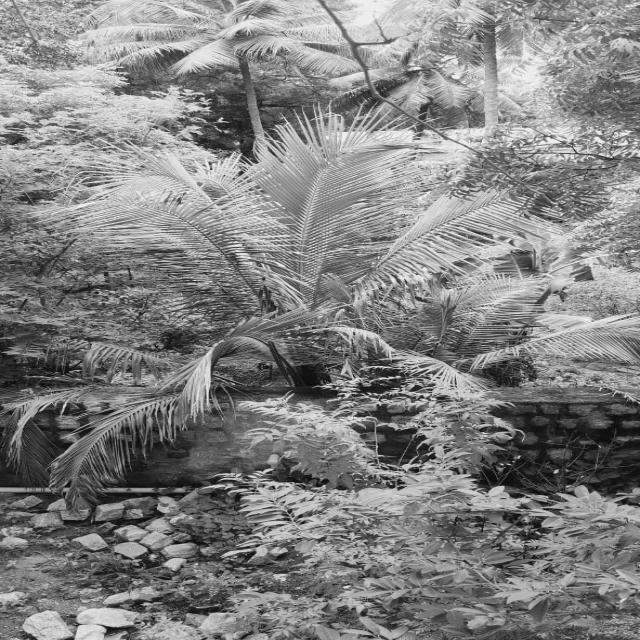Coconut-tree: (91, 181, 481, 399)
